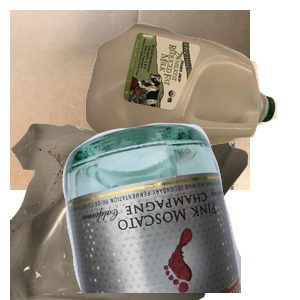cardboard: (10, 10, 250, 190)
glass: (60, 120, 300, 300)
plastic: (83, 21, 300, 162)
trash: (10, 120, 250, 300)
